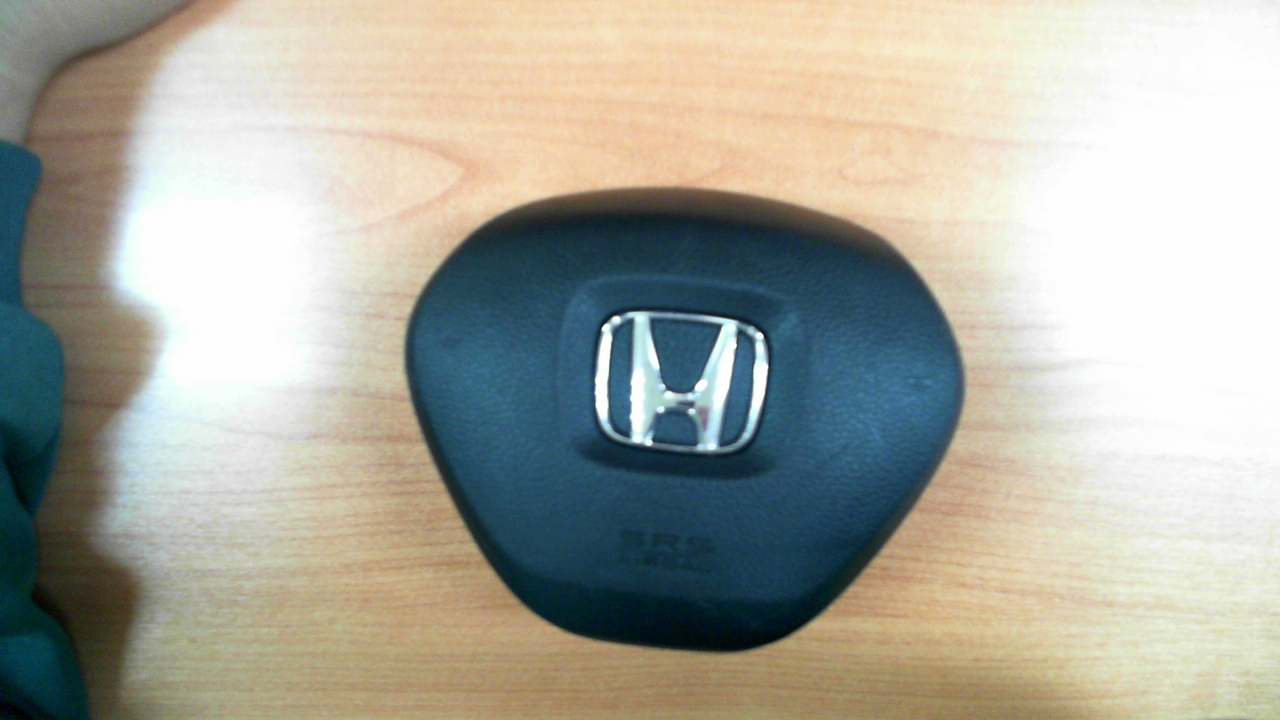Airbag: (404, 187, 966, 655)
Honda: (593, 310, 770, 453)
